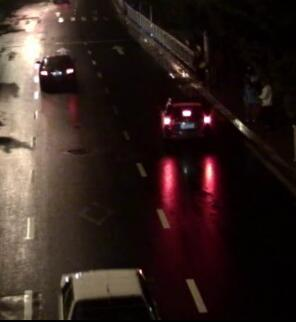car: (48, 267, 160, 319), (159, 91, 214, 135), (35, 54, 76, 88)
